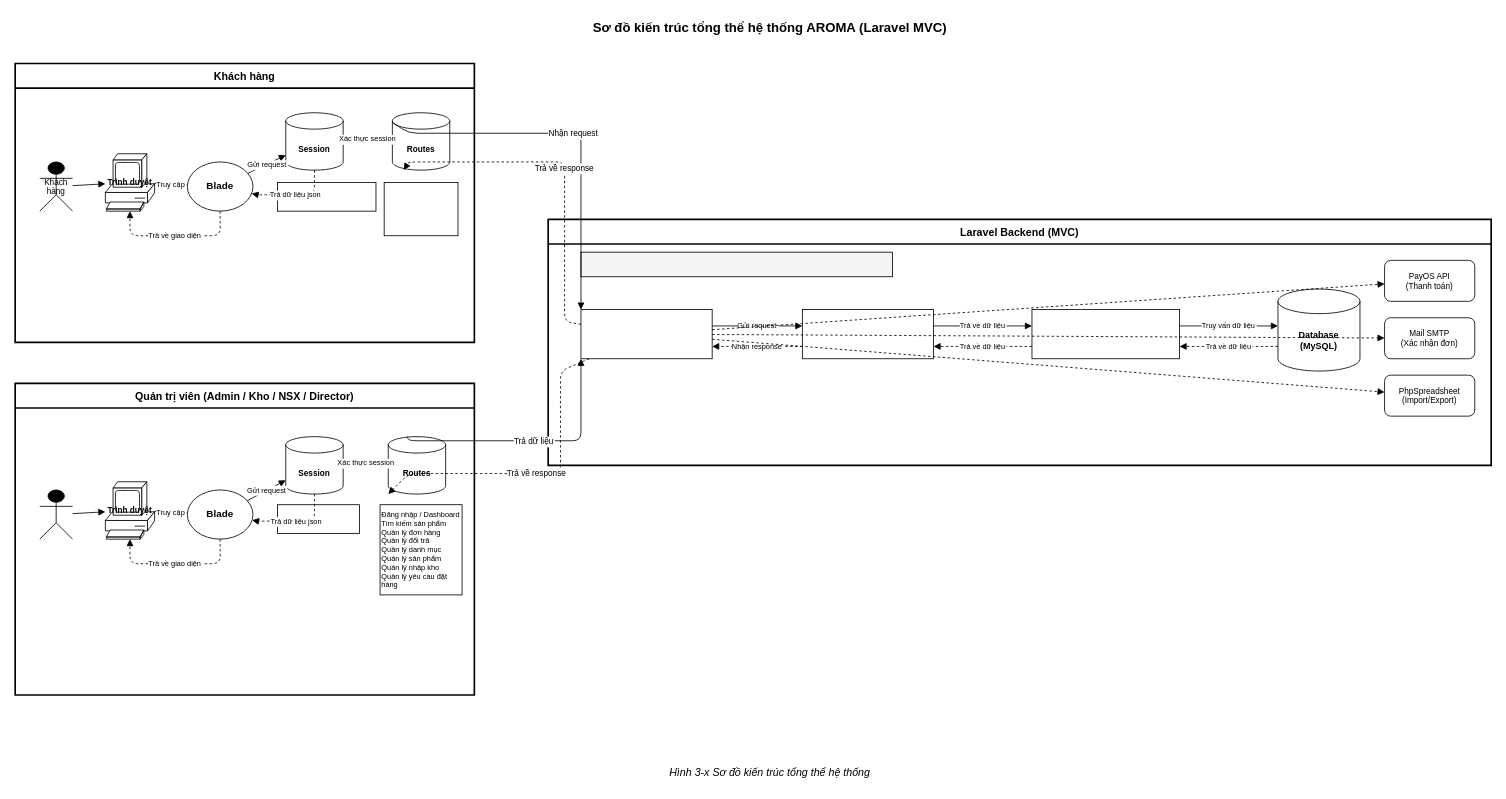
Some shapes in this 1506 by 799 pixel diagram are drawn without their labels. Here are the shapes that lost their labels. From the top down, the centre of each, then its label:
At (326,196): "Lưu thông tin đăng nhập, giỏ hàng".
At (420,209): "Đăng ký / Đăng nhập Tìm kiếm sản phẩm Quản lý đơn hàng Đổi trả hàng".
At (736,264): "Middleware: auth → CheckRole → LogRootActivity".
At (646,334): "Controller".
At (868,334): "Service (Xử lý logic)".
At (1105,334): "Model / Eloquent (Truy vấn dữ liệu)".
At (56,514): "Quản trị viên".
At (318,518): "Lưu thông tin đăng nhập".
